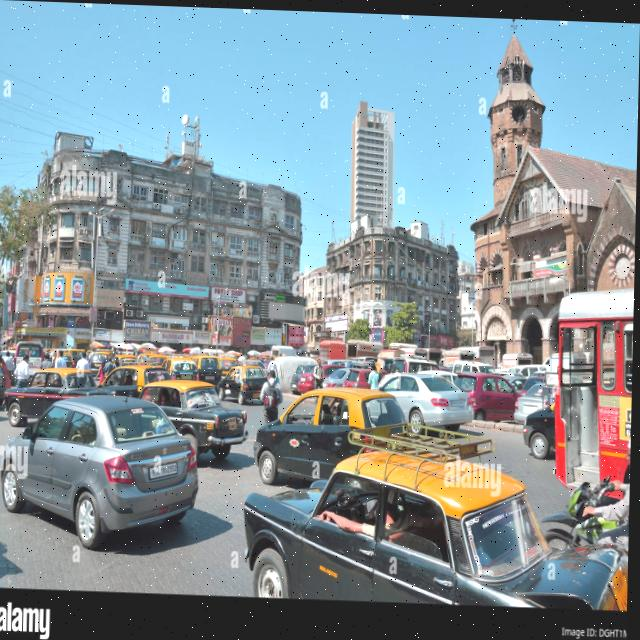plate: (607, 559, 630, 607), (150, 458, 182, 481), (228, 413, 240, 430), (453, 397, 467, 405)
